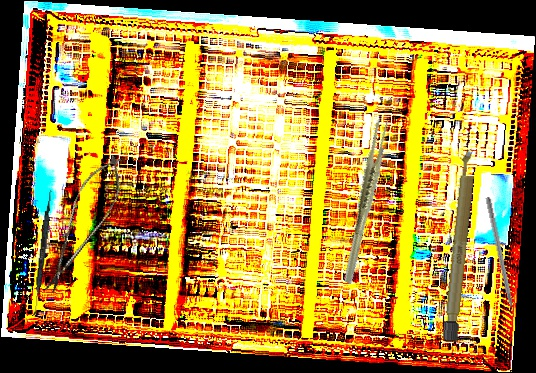Hook Surgical: (484, 196, 519, 329)
Micro Scissor: (33, 148, 134, 301)
Scalpel Handle: (442, 147, 479, 343)
Spatula Surgical: (32, 189, 53, 318)
Tissue Forceps: (313, 117, 417, 285)
